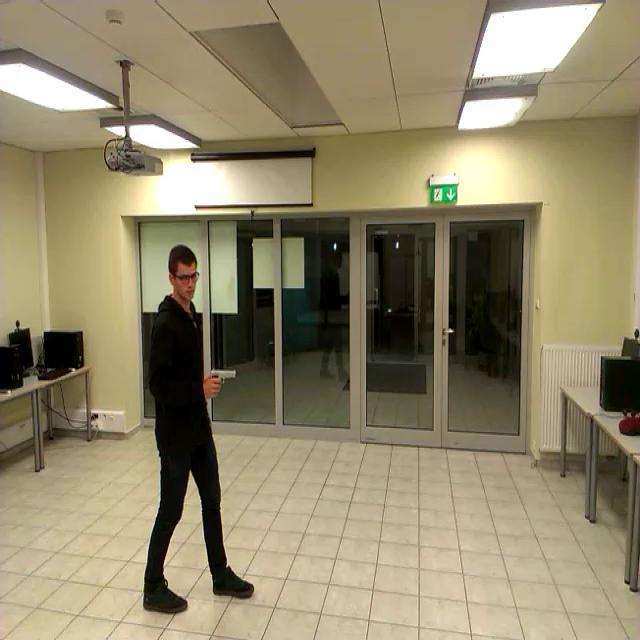Gun: (210, 368, 235, 392)
